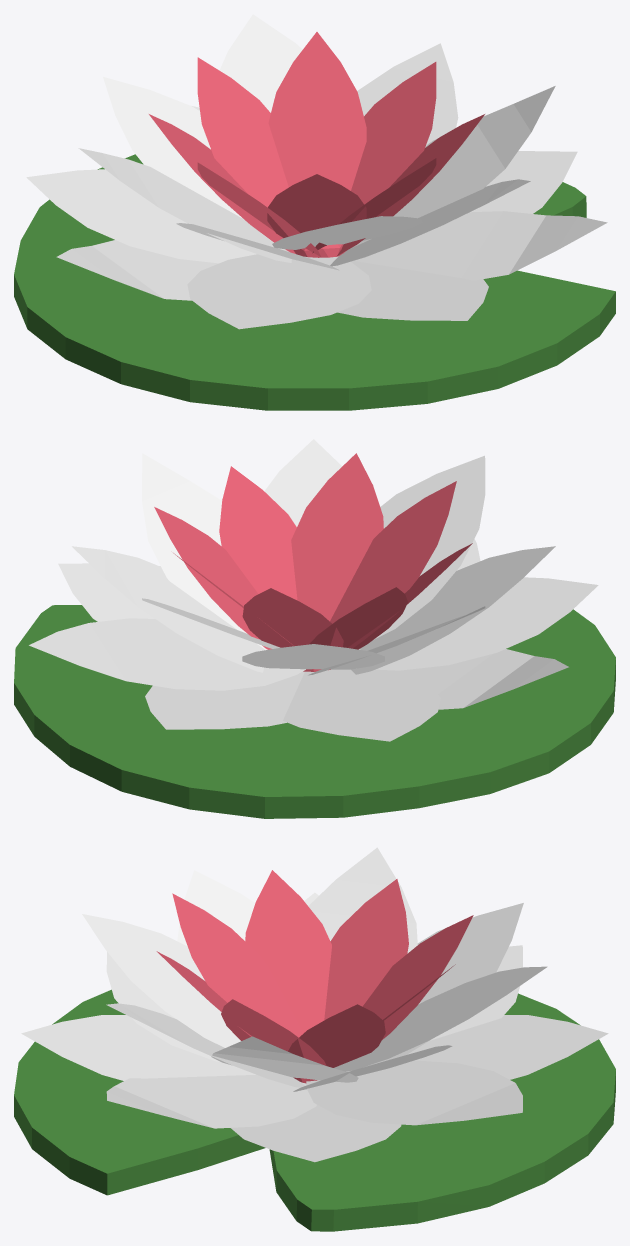
Rendered from Lily flower 1.fbx.
3 renders of one model, top to bottom at view 1: azimuth 30°, elevation 25°; view 2: azimuth 150°, elevation 25°; view 3: azimuth 270°, elevation 25°, orthographic. The views are drawn at different scales.
Visible parts, largest first — view 1: Lily flower; view 2: Lily flower; view 3: Lily flower.
Boxes of the visible parts, left/top/right/bottom form: Lily flower: left=14, top=14, right=615, bottom=410; Lily flower: left=14, top=439, right=615, bottom=818; Lily flower: left=14, top=847, right=615, bottom=1231.
Size of the model in its own units: 3.2 by 1.04 by 3.19.
